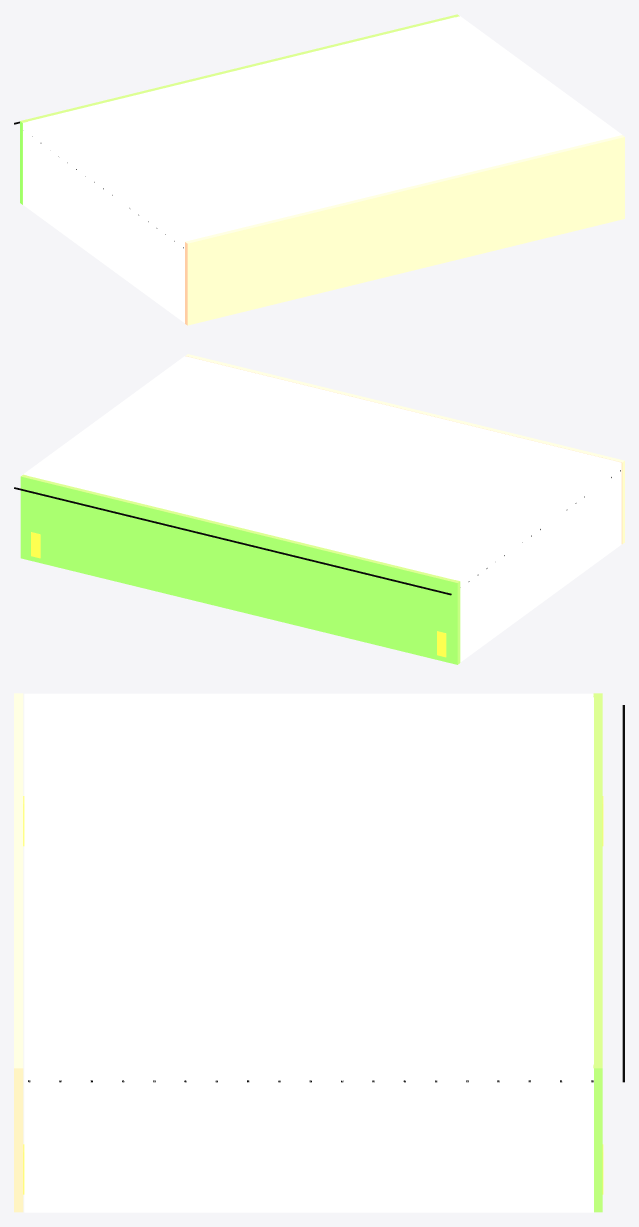
File: multiple_aisles_environment.dae
The picture shows the model from 3 angles, top to bottom: view 1: azimuth 30°, elevation 25°; view 2: azimuth 150°, elevation 25°; view 3: azimuth 270°, elevation 25°; orthographic projection. The views are drawn at different scales.
Visible parts, largest first — view 1: ceiling, Cube.005, Cube, Cube.006, Cube.001; view 2: ceiling, Cube.006, Cube, Cube.005, Cube.002, Cube.001; view 3: ceiling, Cube.001, Cube.005, Cube.006, Cube, Cube.002.
Part boxes in pixels (x1,y1,x2,y2): ceiling: (28, 17, 617, 240); Cube.005: (185, 135, 624, 325); Cube: (23, 122, 189, 322); Cube.006: (20, 14, 459, 204); Cube.001: (456, 16, 621, 135); ceiling: (27, 357, 616, 579); Cube.006: (20, 474, 460, 664); Cube: (456, 461, 621, 662); Cube.005: (185, 354, 624, 544); Cube.002: (14, 470, 620, 595); Cube.001: (23, 356, 188, 475); ceiling: (24, 697, 593, 1064); Cube.001: (24, 1064, 593, 1212); Cube.005: (14, 693, 23, 1212); Cube.006: (593, 693, 602, 1212); Cube: (24, 693, 593, 697); Cube.002: (28, 705, 624, 1082).
Bounding box in the file's own units: 95.07 × 65.4 × 17.01.
